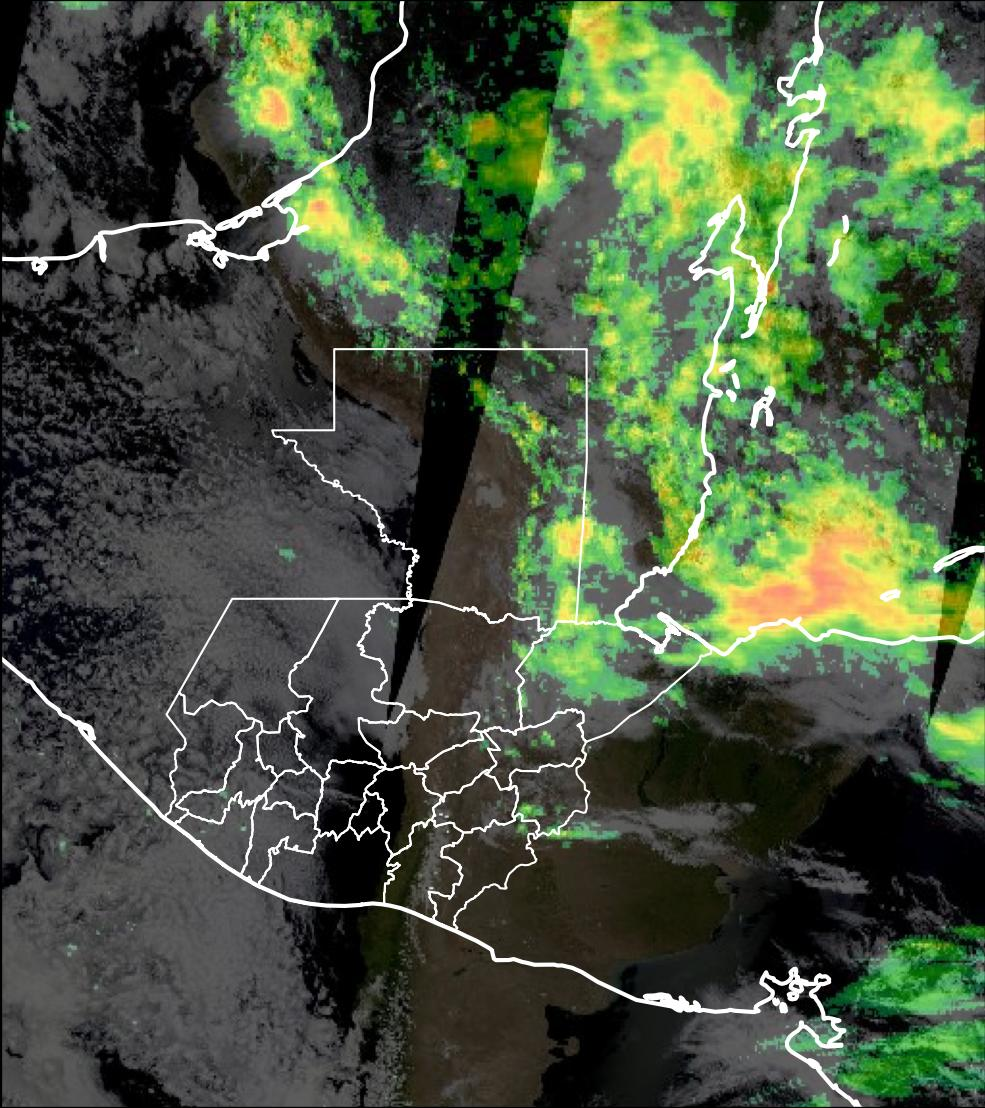precipitacion: (703, 505, 900, 641)
